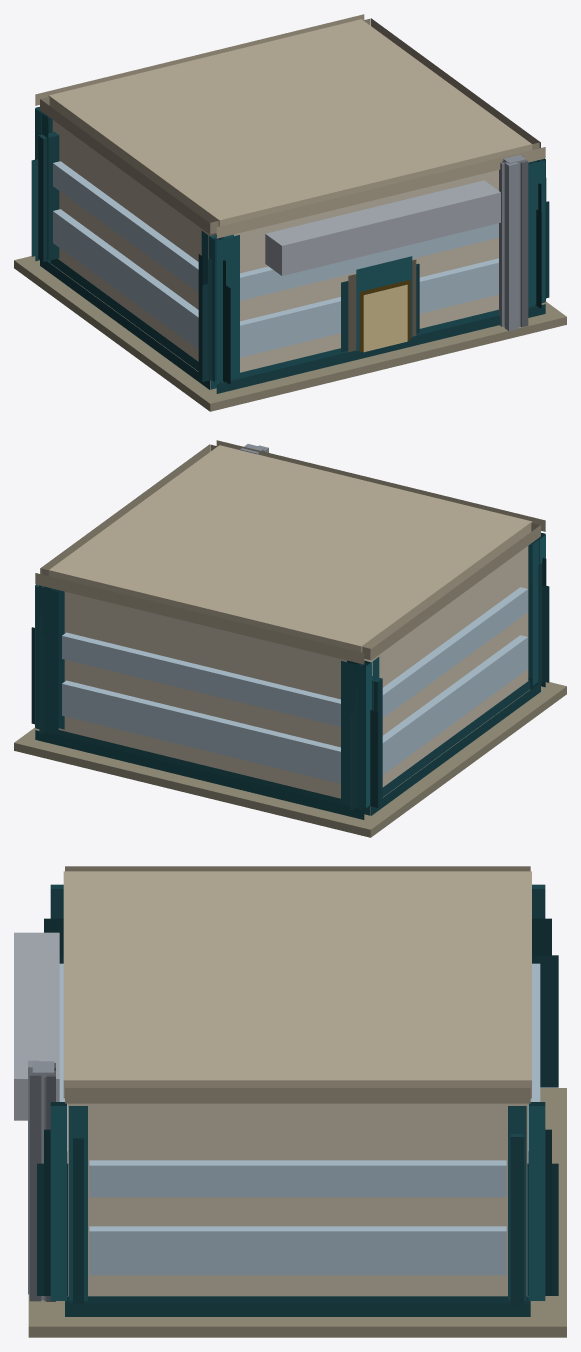
File: CloudCamelSil.fbx
3 views of the same model, one above another, from view 1: azimuth 30°, elevation 25°; view 2: azimuth 150°, elevation 25°; view 3: azimuth 270°, elevation 25° (orthographic). The views are drawn at different scales.
Parts seen in each view (by area): view 1: ZP_S_All; view 2: ZP_S_All; view 3: ZP_S_All.
Part boxes in pixels (x1,y1,x2,y2): ZP_S_All: (14,14,566,411); ZP_S_All: (14,440,566,837); ZP_S_All: (14,866,566,1337).
Size of the model in its own units: 42.04 by 19.9 by 41.14.
